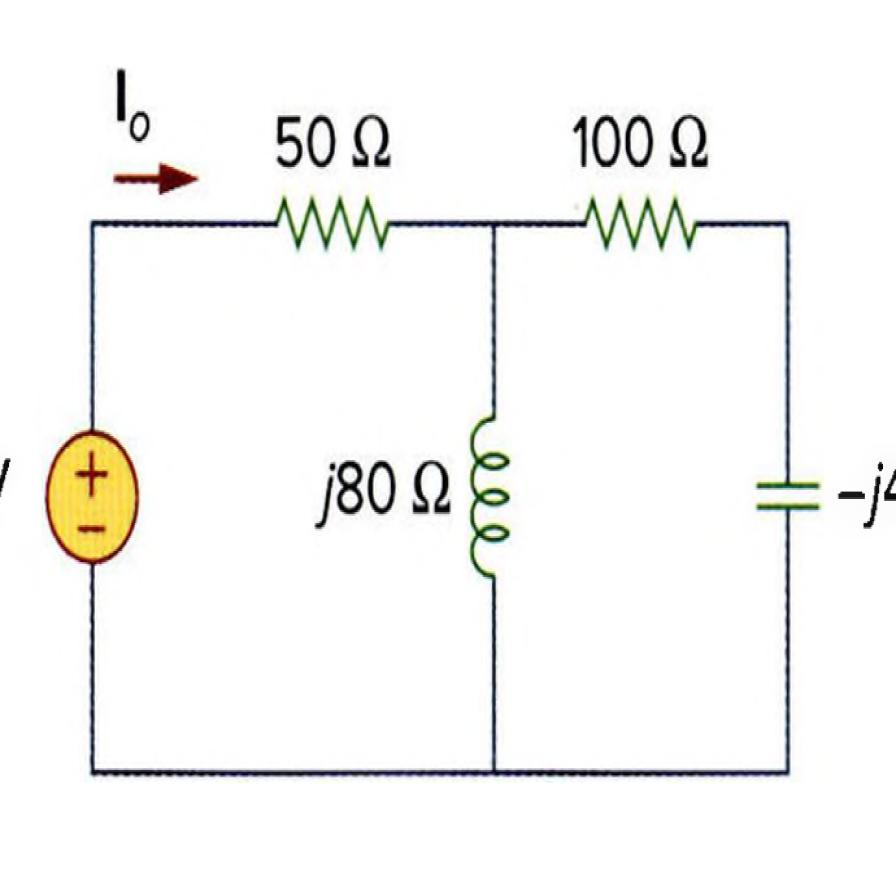C2: (746, 455, 830, 540)
L2: (457, 379, 526, 617)
